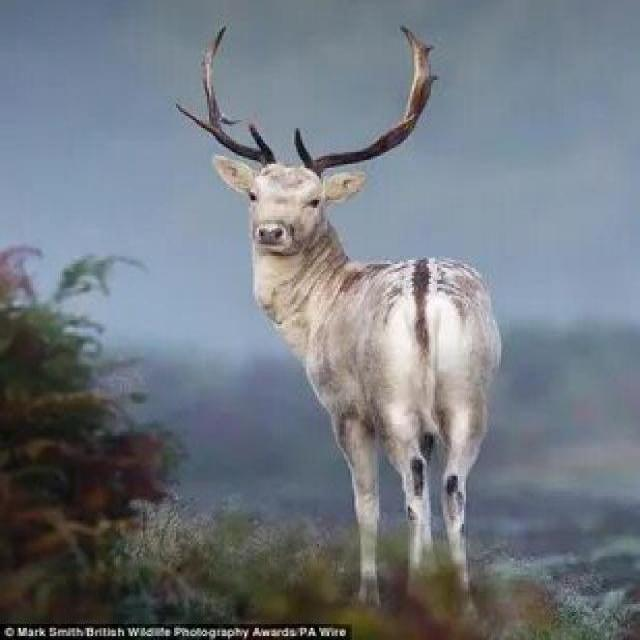deer: (145, 41, 620, 602)
